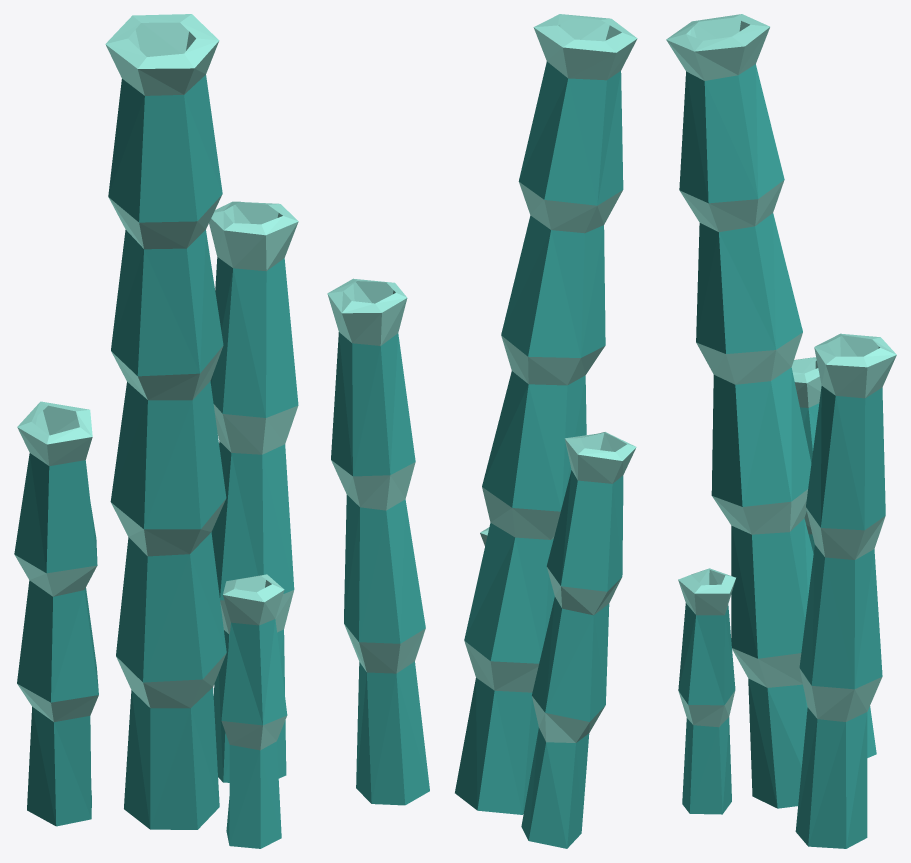
File: coral_pillar_teal.fbx
The picture shows the model from 3 angles, left to right: view 1: azimuth 30°, elevation 25°; view 2: azimuth 150°, elevation 25°; view 3: azimuth 270°, elevation 25°; orthographic projection. The views are drawn at different scales.
Parts seen in each view (by area): view 1: coral_pillar_teal; view 2: coral_pillar_teal; view 3: coral_pillar_teal.
Part boxes in pixels (box(x1,y1,x2,y2)): coral_pillar_teal: box(14, 14, 298, 848); coral_pillar_teal: box(327, 14, 637, 848); coral_pillar_teal: box(666, 14, 896, 848).
Bounding box in the file's own units: 702 × 1892 × 530.
1 material, 1 textured.
